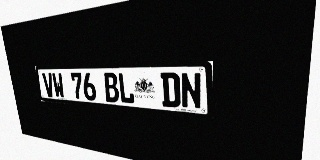6: (81, 73, 97, 101)
7: (70, 73, 85, 100)
B: (103, 73, 120, 103)
D: (160, 73, 181, 108)
L: (117, 73, 135, 104)
N: (180, 72, 202, 110)
V: (42, 73, 55, 97)
W: (51, 73, 65, 98)
